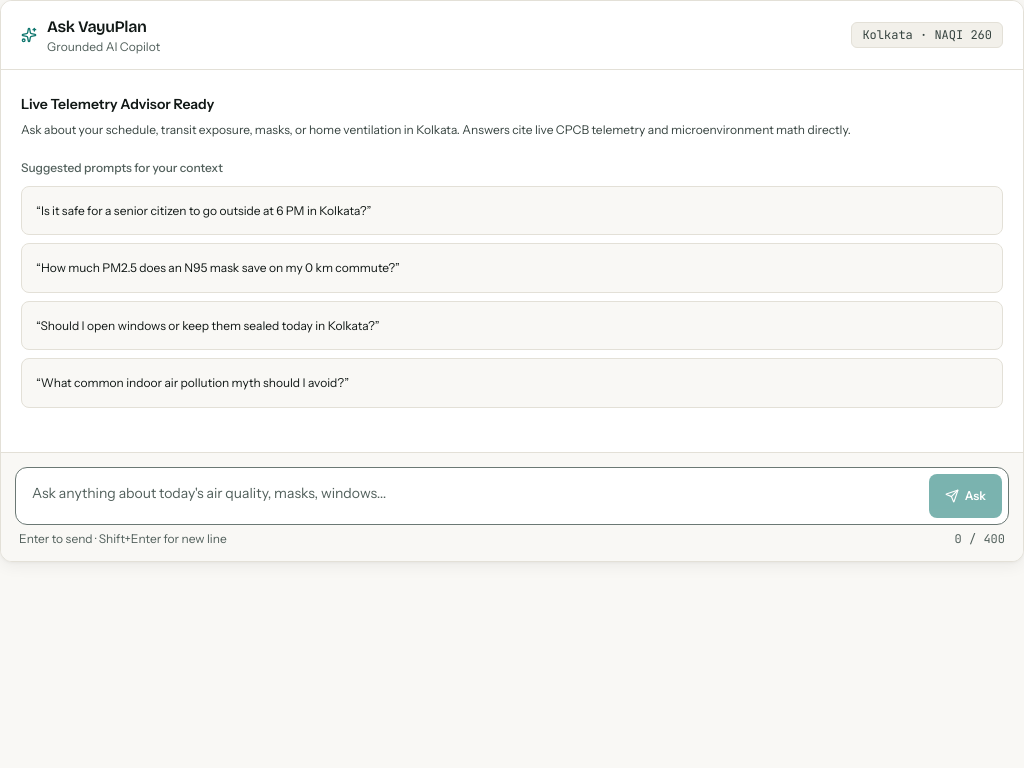
GroundedChat Component › displays Deterministic Physics Fallback badge when mode is fallback
Click the button "Should I open windows or keep them sealed today in Kolkata?".
click(208, 325)  # box [21, 300, 1003, 350]
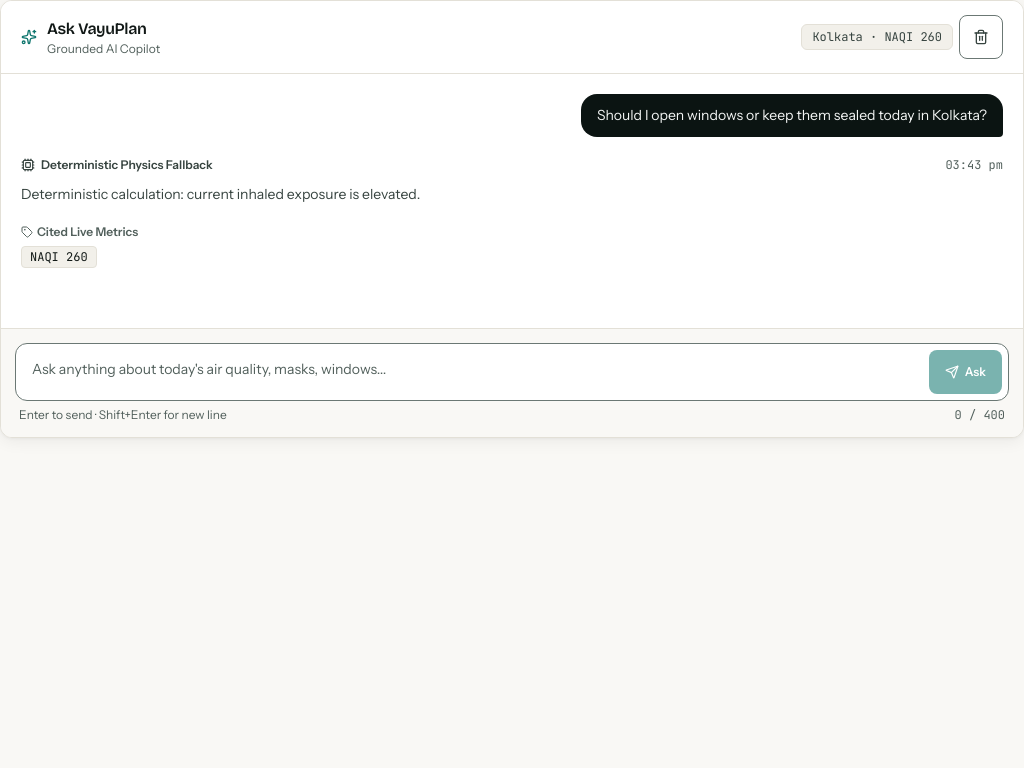
Expected: the text "Deterministic calculation: current inhaled exposure" is shown, [21, 185, 420, 203]
Expected: the text "Deterministic Physics Fallback" is shown, [41, 157, 213, 173]
